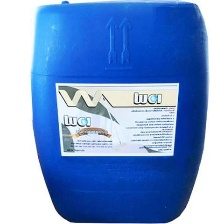cleaning_solution: (27, 0, 210, 223)
